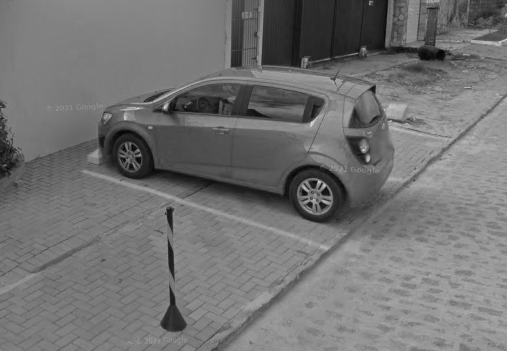car: (97, 63, 396, 224)
